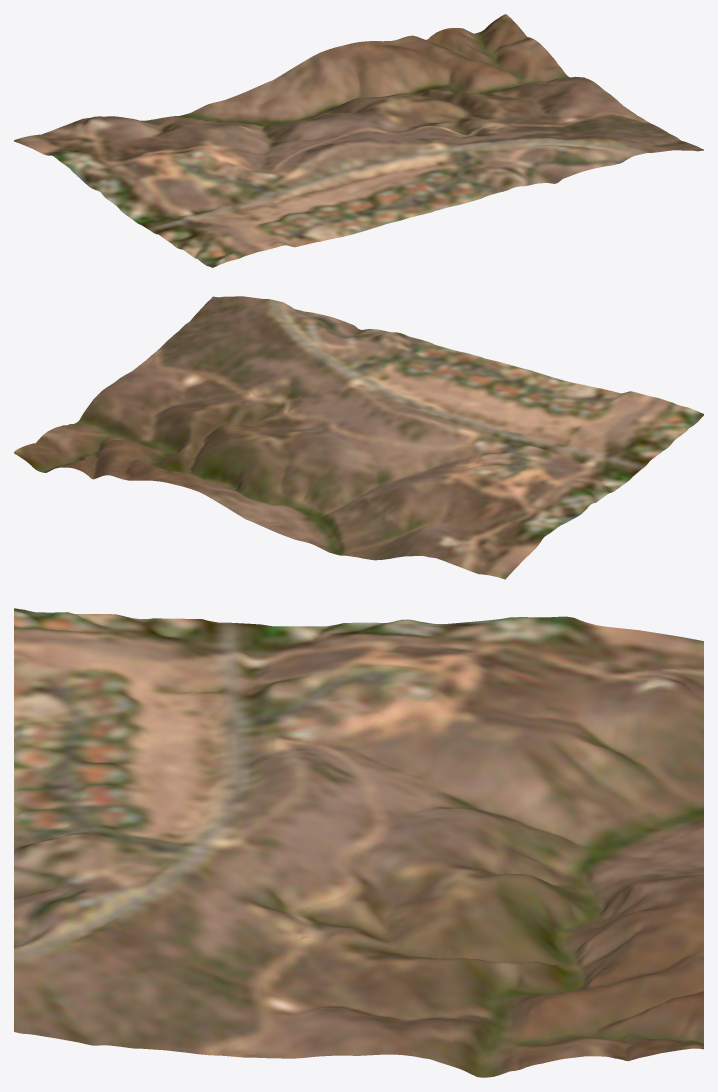
File: terrain_r5_c0.glb
3 views of the same model, one above another, from view 1: azimuth 30°, elevation 25°; view 2: azimuth 150°, elevation 25°; view 3: azimuth 270°, elevation 25° (orthographic). The views are drawn at different scales.
Parts seen in each view (by area): view 1: terrain_r5_c0_lod0; view 2: terrain_r5_c0_lod0; view 3: terrain_r5_c0_lod0.
Part boxes in pixels (bbox=[...]): terrain_r5_c0_lod0: bbox=[14, 14, 703, 267]; terrain_r5_c0_lod0: bbox=[14, 296, 703, 579]; terrain_r5_c0_lod0: bbox=[14, 608, 703, 1077].
Size of the model in its own units: 1125 by 106 by 787.
Materials: 1 (1 with a texture image).
